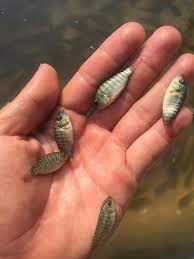fish: (52, 111, 76, 156), (95, 76, 124, 108), (31, 151, 67, 175), (96, 197, 115, 241), (164, 74, 183, 117)
